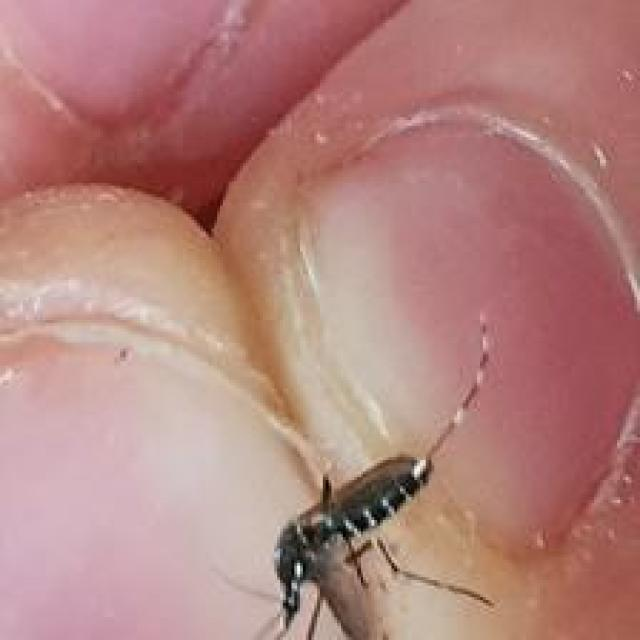Aedes albopictus: (224, 311, 499, 640)
